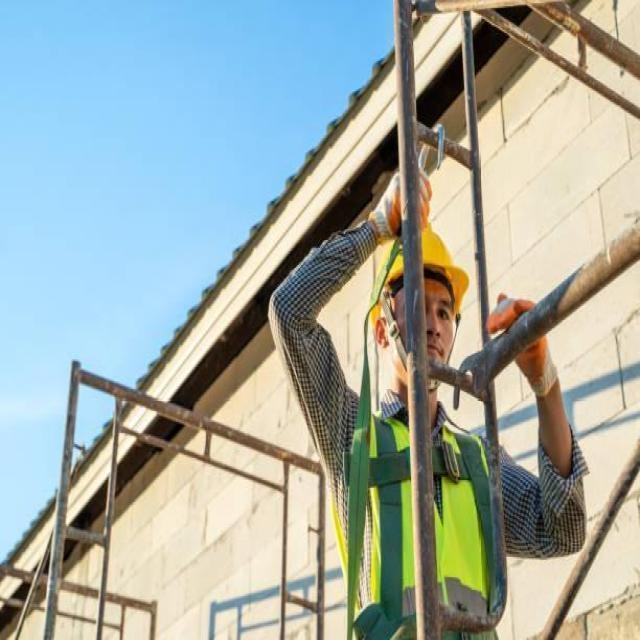Arnes_seguridad: (352, 405, 500, 638)
